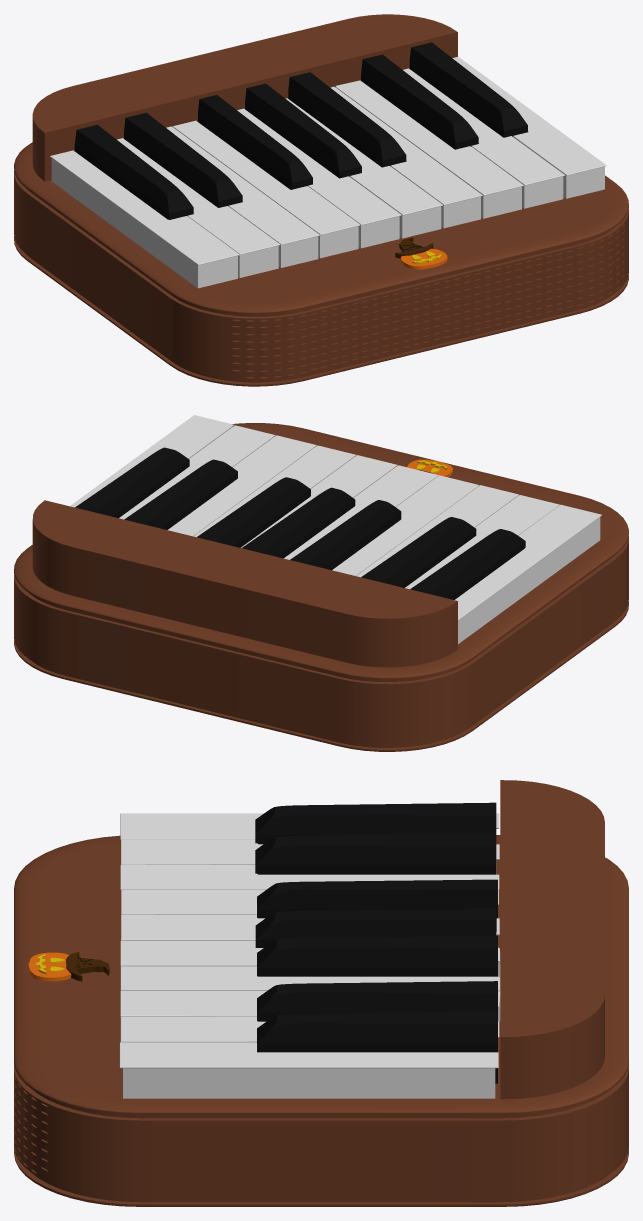
File: Piano_3D.glb
The picture shows the model from 3 angles, top to bottom: view 1: azimuth 30°, elevation 25°; view 2: azimuth 150°, elevation 25°; view 3: azimuth 270°, elevation 25°; orthographic projection. The views are drawn at different scales.
Parts seen in each view (by area): view 1: BASE, NTO.001, NTO1, FA, NTODIES, RE2DIES, LADIES, REDIES, NTO1DIES, SOL, RE2, MI2 (+7 smaller); view 2: BASE, NTO.001, NTO1, FA, NTODIES, REDIES, RE2DIES, LADIES, NTO1DIES, SOLDIES, FADIES, SOL (+7 smaller); view 3: BASE, MI2, REDIES, RE2DIES, LADIES, NTODIES, NTO1DIES, FADIES, SOLDIES, SI, MI, LA (+7 smaller).
Boxes of the visible parts, box(x1,y1,x2,y2) form: BASE: box(14, 14, 628, 386); NTO.001: box(50, 150, 239, 288); NTO1: box(335, 80, 523, 218); FA: box(172, 120, 360, 258); NTODIES: box(74, 124, 193, 219); RE2DIES: box(409, 42, 527, 137); LADIES: box(288, 72, 406, 167); REDIES: box(124, 112, 242, 207); NTO1DIES: box(361, 54, 478, 149); SOL: box(237, 108, 401, 248); RE2: box(403, 68, 564, 208); MI2: box(452, 56, 606, 198); BASE: box(14, 423, 628, 751); NTO.001: box(454, 504, 601, 643); NTO1: box(167, 435, 316, 536); FA: box(332, 475, 479, 575); NTODIES: box(410, 529, 525, 599); REDIES: box(361, 517, 476, 587); RE2DIES: box(75, 447, 189, 518); LADIES: box(197, 477, 310, 547); NTO1DIES: box(124, 459, 237, 529); SOLDIES: box(242, 487, 355, 558); FADIES: box(290, 500, 401, 570); SOL: box(284, 465, 438, 559); BASE: box(14, 780, 628, 1206); MI2: box(119, 1042, 498, 1098); REDIES: box(255, 833, 496, 874); RE2DIES: box(257, 1011, 497, 1083); LADIES: box(257, 935, 497, 976); NTODIES: box(255, 802, 496, 844); NTO1DIES: box(257, 981, 497, 1021); FADIES: box(257, 879, 497, 935); SOLDIES: box(255, 908, 496, 947); SI: box(120, 966, 500, 1021); MI: box(120, 865, 499, 889); LA: box(120, 940, 500, 977).
Size of the model in its own units: 2.07 by 0.5666 by 1.94.
